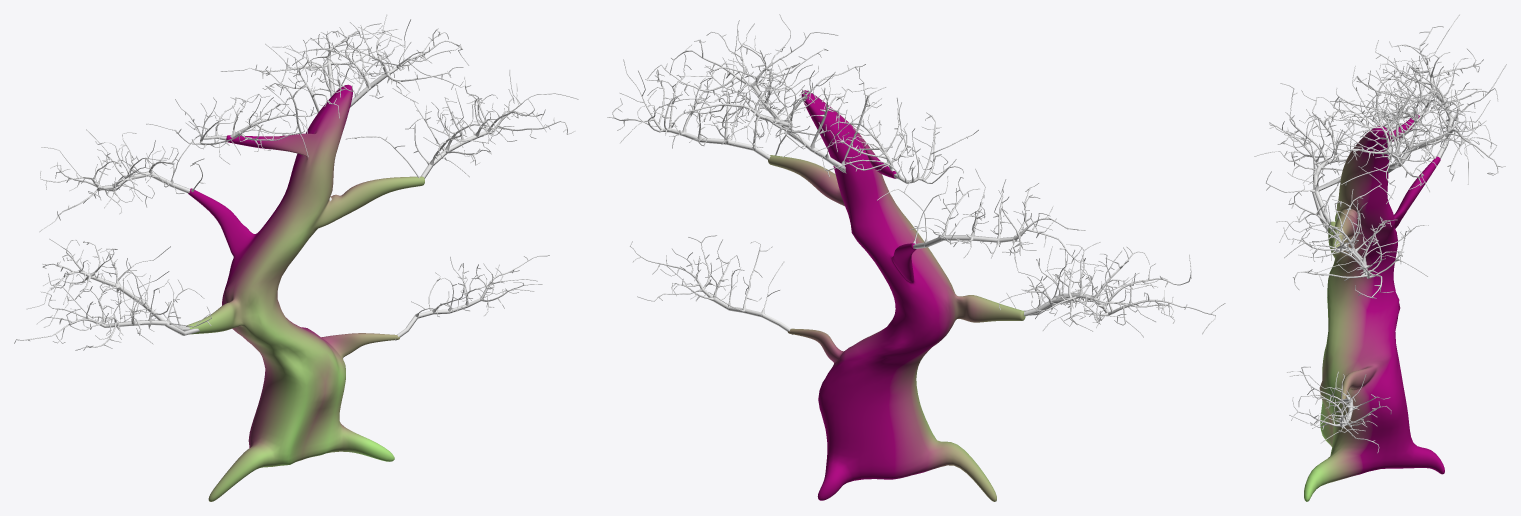
Rendered from grown-v02.glb.
3 views of the same model, side by side, from view 1: azimuth 30°, elevation 25°; view 2: azimuth 150°, elevation 25°; view 3: azimuth 270°, elevation 25° (orthographic). The views are drawn at different scales.
Visible parts, largest first — view 1: Continuous aged trunk and primary branches, Terminal twig hierarchy; view 2: Continuous aged trunk and primary branches, Terminal twig hierarchy; view 3: Continuous aged trunk and primary branches, Terminal twig hierarchy.
Boxes of the visible parts, x1,y1,x2,y2 form: Continuous aged trunk and primary branches: (186, 84, 424, 501); Terminal twig hierarchy: (14, 14, 578, 350); Continuous aged trunk and primary branches: (768, 90, 1025, 501); Terminal twig hierarchy: (607, 14, 1225, 337); Continuous aged trunk and primary branches: (1304, 114, 1444, 501); Terminal twig hierarchy: (1254, 14, 1506, 453).
Size of the model in its own units: 2.71 by 1.92 by 1.01.
